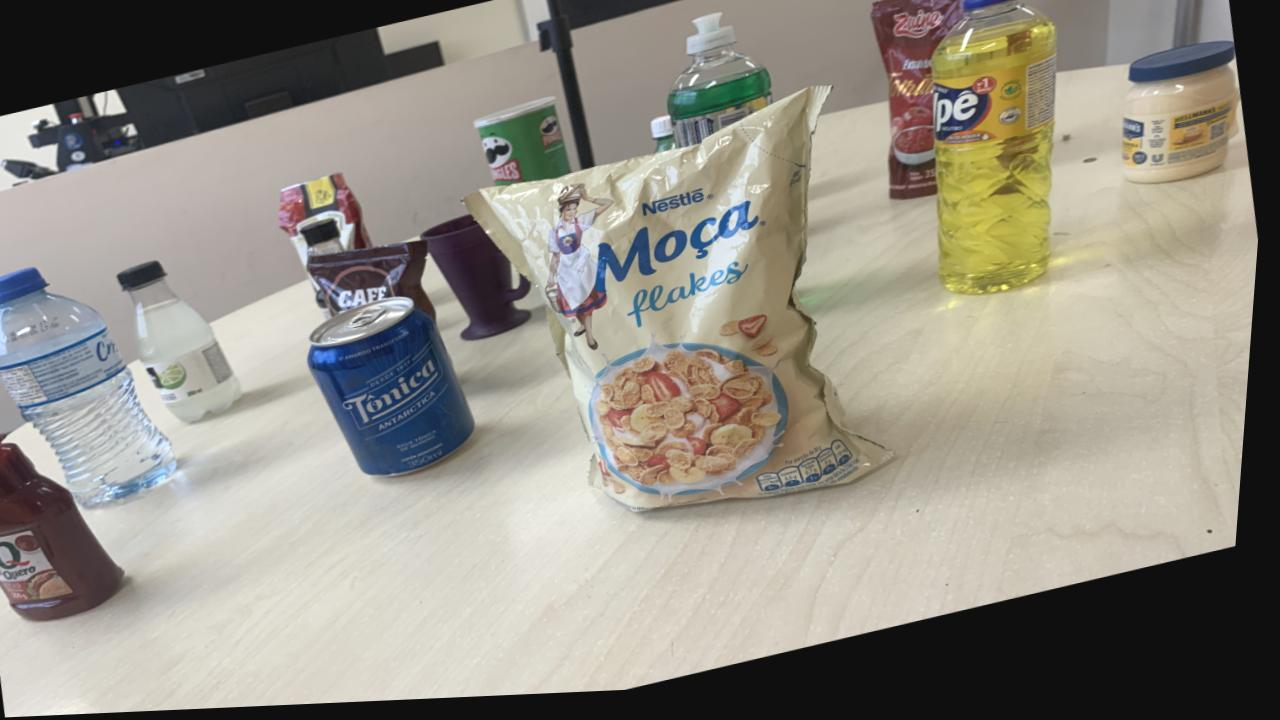Coffee-Pantry_Items: (310, 244, 440, 322)
Detergent-Cleanup_Items: (932, 0, 1058, 303), (669, 19, 774, 154)
English_Sauce-Pantry_Items: (305, 221, 346, 258)
Flakes-Snacks: (468, 94, 900, 517)
Guarana-Drinks: (652, 121, 678, 159)
Ketchup-Pantry_Items: (0, 423, 132, 621)
Mayonnaise-Pantry_Items: (1124, 52, 1239, 194)
Pringles-Snacks: (475, 101, 574, 191)
Soda-Drinks: (122, 263, 248, 424)
Tomato_Sauce-Pantry_Items: (870, 0, 972, 208), (282, 176, 376, 268)
Tonic-Drinks: (312, 300, 481, 479)
Water_Bottle-Drinks: (0, 267, 181, 506)
